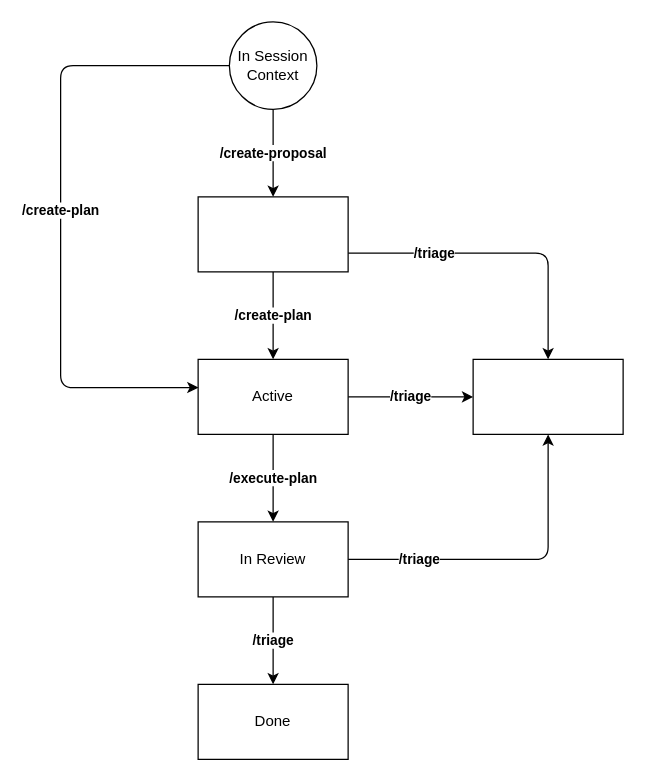
Some shapes in this 645 by 781 pixel diagram are drawn without their labels. The shapes that lost their labels are listed below. From the top down, each one's centre as x and y in pixels, then its label:
(272,234): Draft
(547,396): Abandoned
